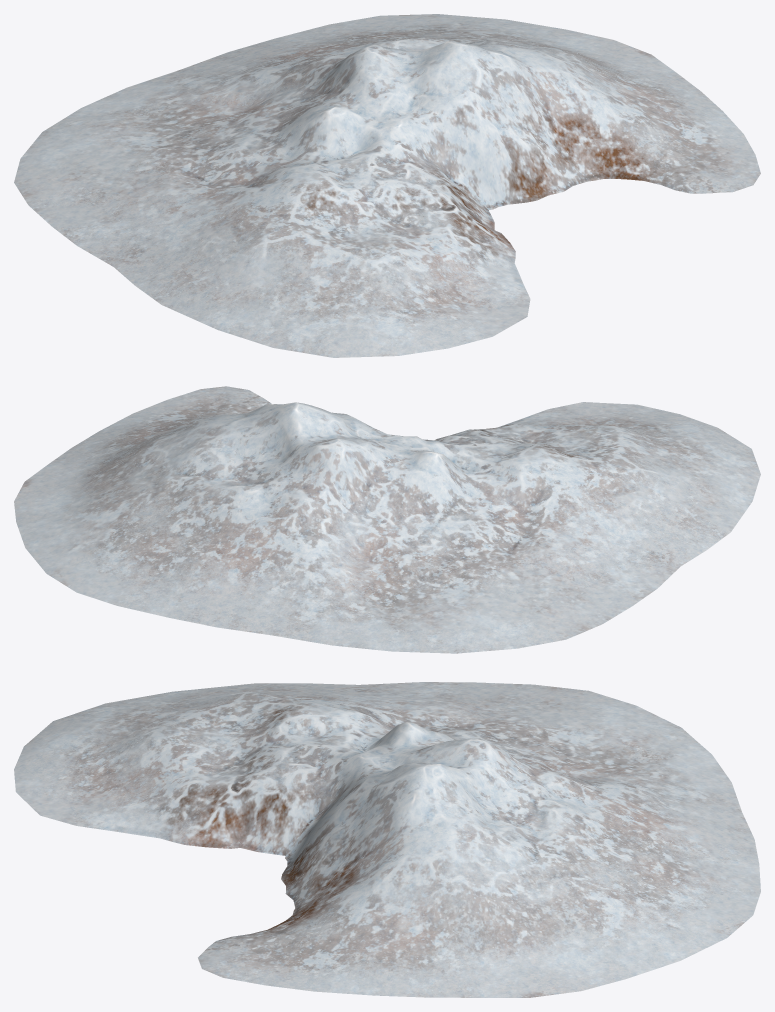
File: EP1_terrain02b.fbx
The picture shows the model from 3 angles, top to bottom: view 1: azimuth 30°, elevation 25°; view 2: azimuth 150°, elevation 25°; view 3: azimuth 270°, elevation 25°; orthographic projection. The views are drawn at different scales.
Visible parts, largest first — view 1: Terrain02b; view 2: Terrain02b; view 3: Terrain02b.
Boxes of the visible parts, box(x1,y1,x2,y2) form: Terrain02b: box(14, 14, 760, 357); Terrain02b: box(14, 386, 760, 653); Terrain02b: box(14, 682, 760, 997).
Size of the model in its own units: 21.78 by 3.53 by 21.76.
